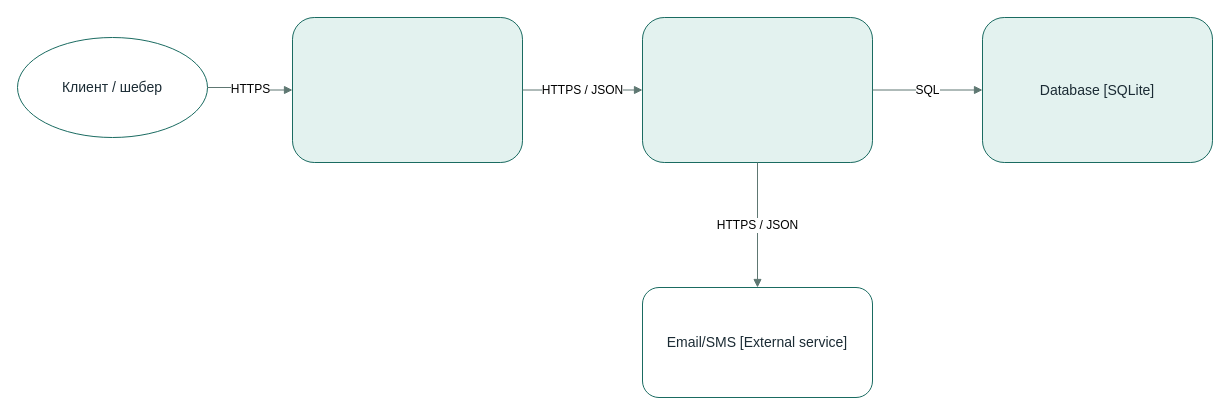
This 1230x415 diagram has some shape labels left out. The centre of each missing label's shape, as x and y in pixels:
Repair API [ASP.NET Core]: point (757, 89)
Web App [Responsive UI]: point (407, 89)
